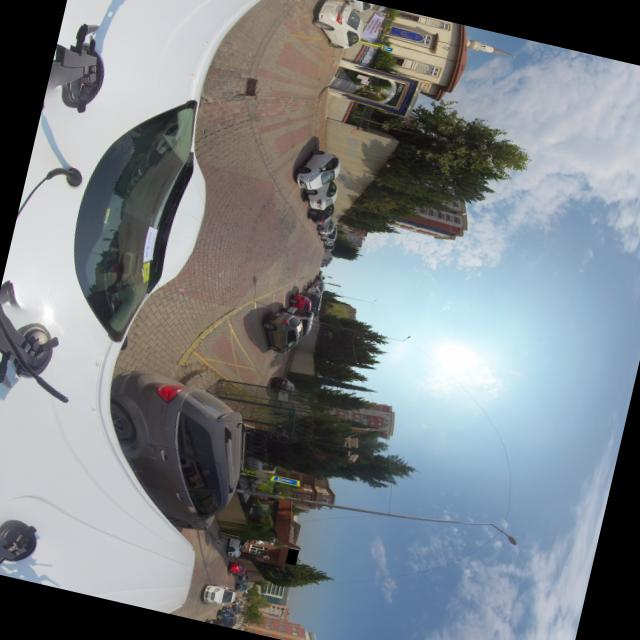SignStore: (284, 548, 297, 564)
